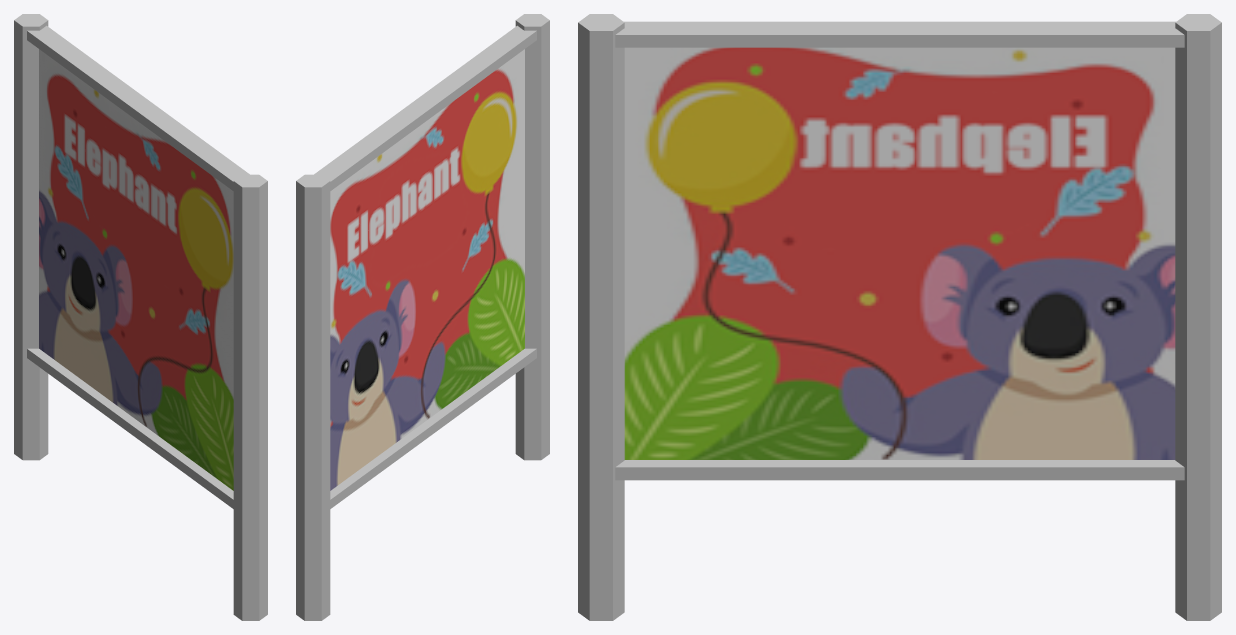
File: guanggaopai_02.FBX
3 views of the same model, side by side, from view 1: azimuth 30°, elevation 25°; view 2: azimuth 150°, elevation 25°; view 3: azimuth 270°, elevation 25° (orthographic). The views are drawn at different scales.
Parts seen in each view (by area): view 1: guanggaopai_02; view 2: guanggaopai_02; view 3: guanggaopai_02.
Part boxes in pixels (x1,y1,x2,y2): guanggaopai_02: (14,14,267,620); guanggaopai_02: (296,14,549,620); guanggaopai_02: (578,14,1221,620).
Bounding box in the file's own units: 49.28 × 796 × 788.
